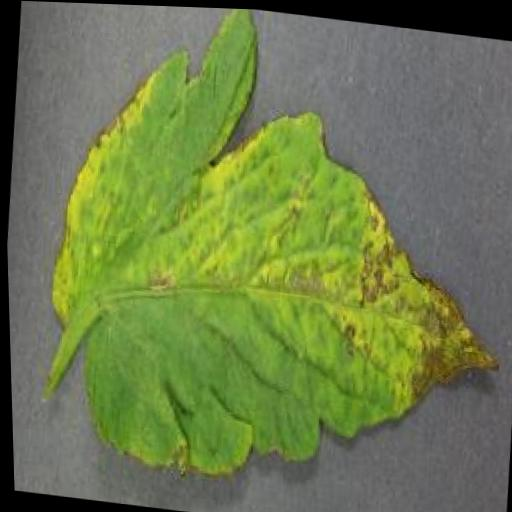Bacterial Spot: (26, 1, 512, 507)
